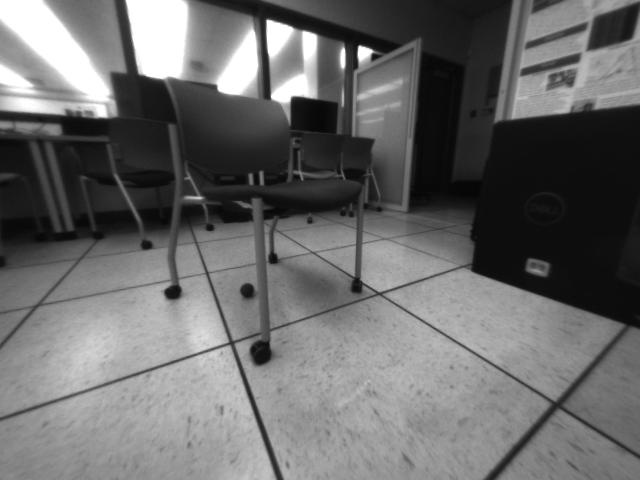dogtoy: (232, 275, 261, 310)
